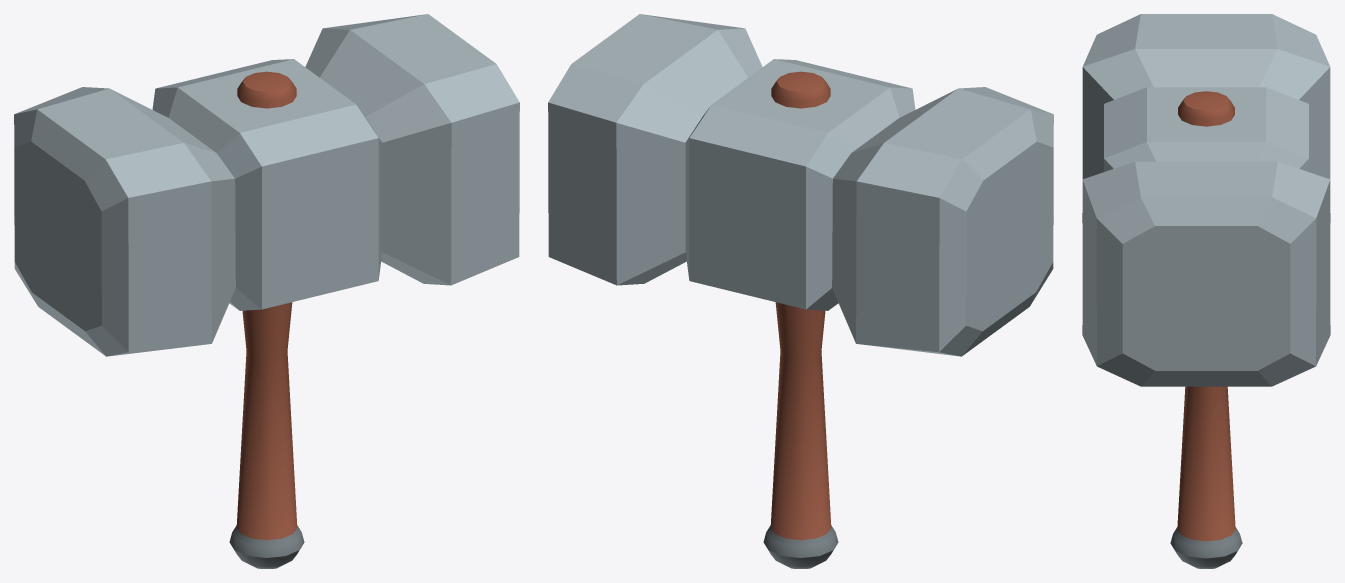
File: hammer_uncommon.glb
3 renders of one model, left to right at view 1: azimuth 30°, elevation 25°; view 2: azimuth 150°, elevation 25°; view 3: azimuth 270°, elevation 25°, orthographic. The views are drawn at different scales.
Parts seen in each view (by area): view 1: hammer_uncommon; view 2: hammer_uncommon; view 3: hammer_uncommon.
Part boxes in pixels (box(x1,y1,x2,y2)): hammer_uncommon: box(14, 14, 519, 568); hammer_uncommon: box(548, 14, 1053, 568); hammer_uncommon: box(1082, 14, 1330, 568).
Bounding box in the file's own units: 0.1378 × 0.1523 × 0.0737.
